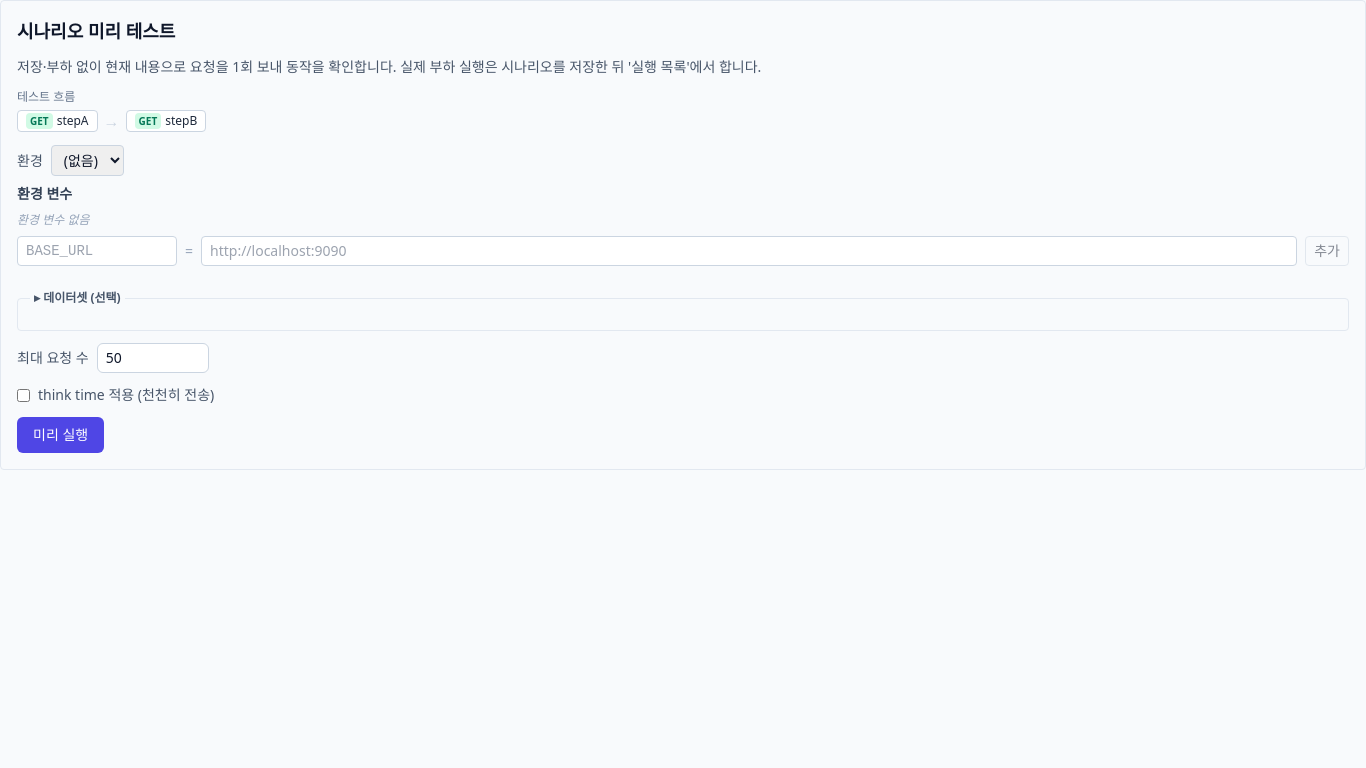
it: TestRunSection 데이터셋 섹션 (R11/R14/R15) › incomplete 게이트 — single_row 행 미선택 시 실행 버튼 disabled + 안내 문구 (R11)
Step 1. Click the button "▸ 데이터셋 (선택)" → (77, 298), box [34,290,121,306]
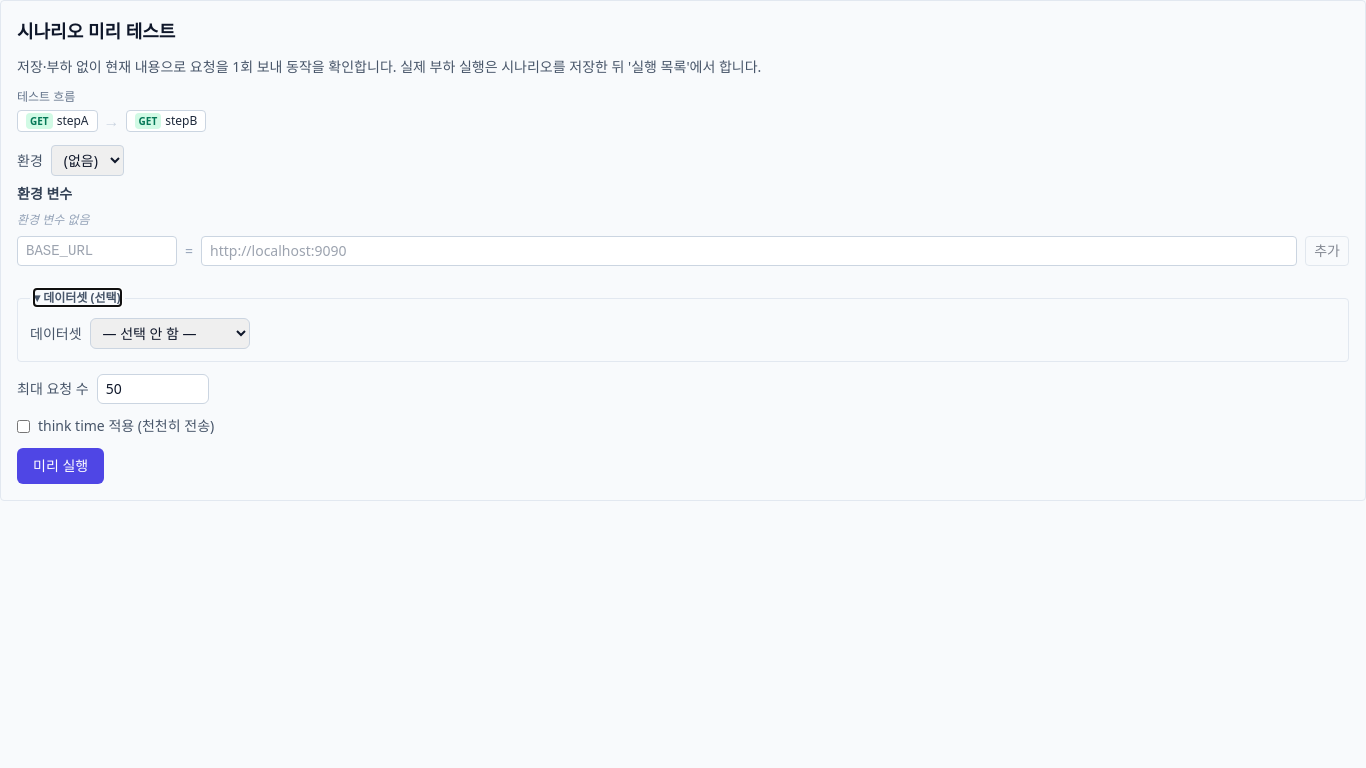
Step 2. Select "users" in the dropdown named "데이터셋" → (170, 334), box [90,318,250,349]
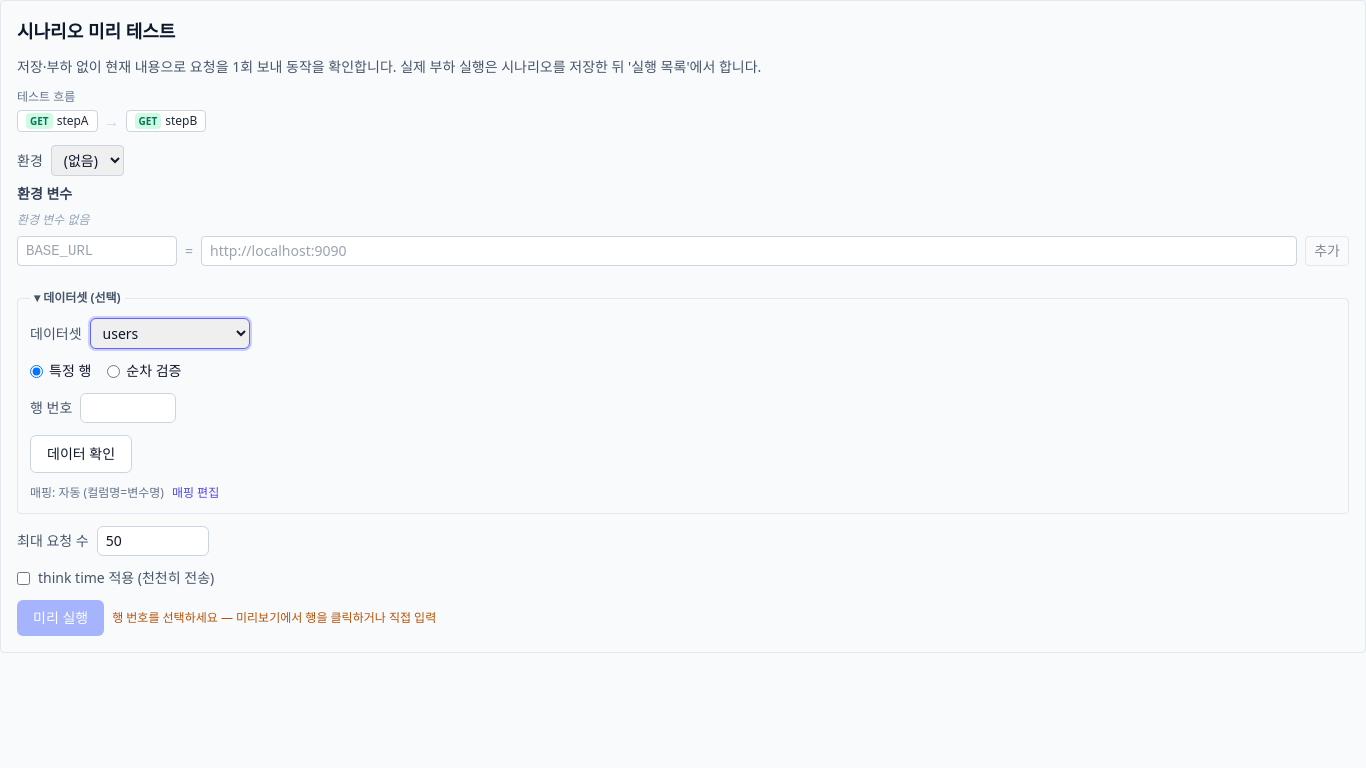
Check: the button "미리 실행" is disabled, box [17,600,104,636]
Check: the text "행 번호를 선택하세요 — 미리보기에서 행을 클릭하거나 직접 입력" is shown, box [112,610,436,626]
